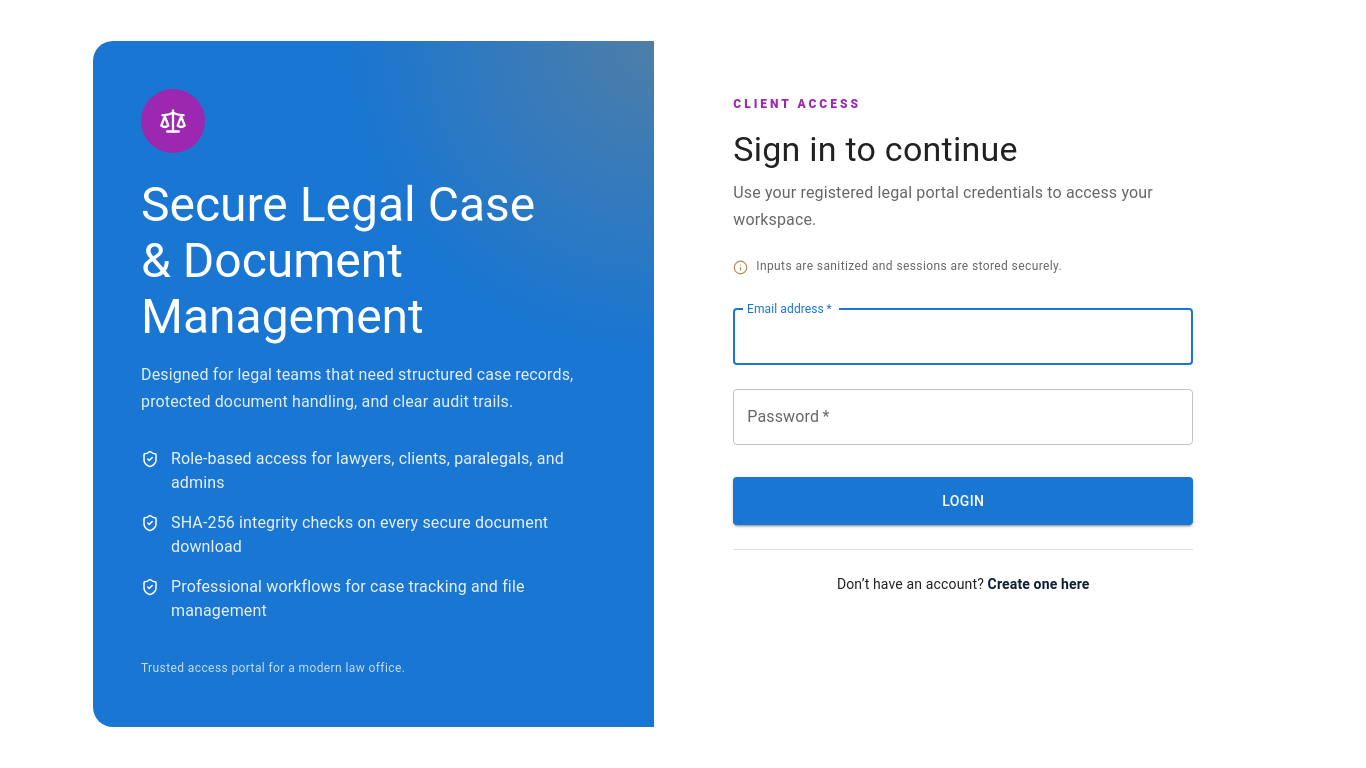
Test: Login component — client-side validation › shows password required error when password is empty
Step 1. Type "user@example.com" into the field labelled "Email address *" → (963, 337), box [733, 309, 1193, 365]
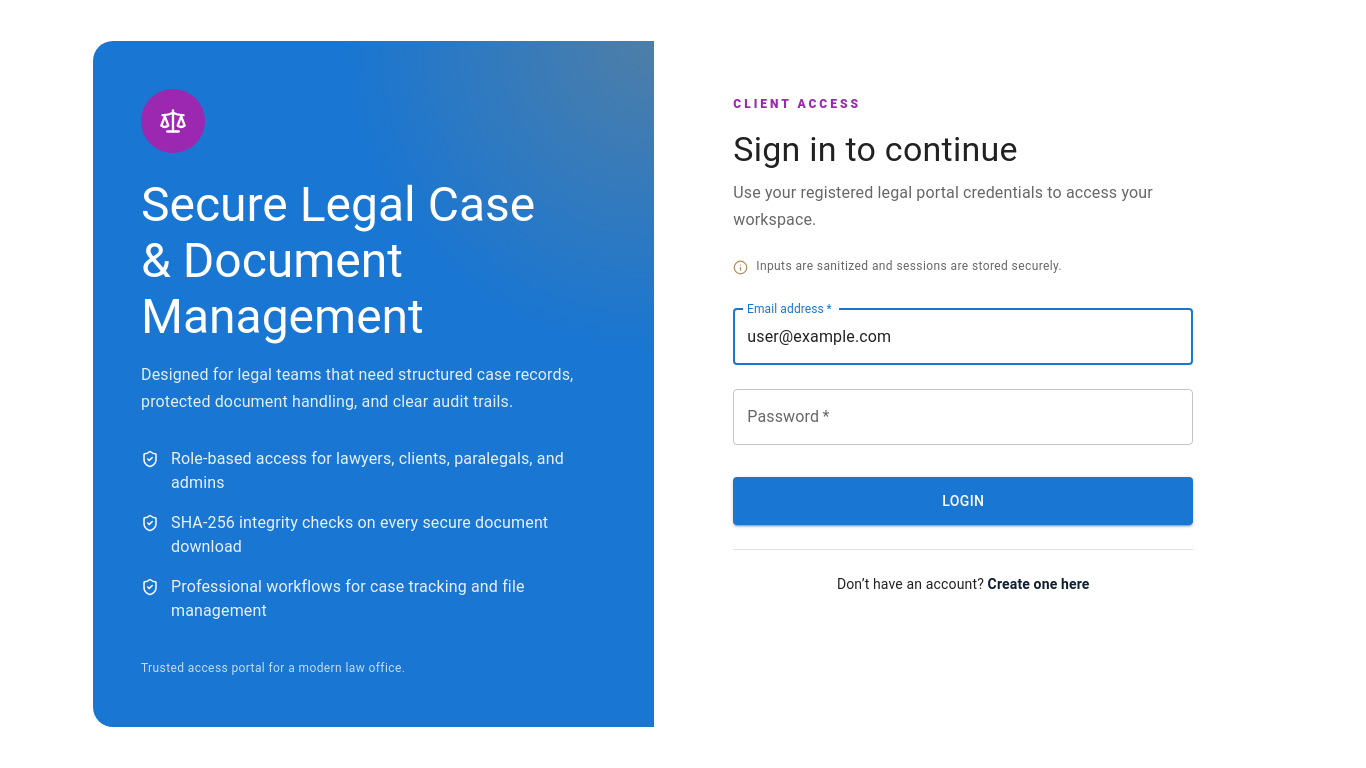
Step 2. Submit the form from the button "Login", box [733, 477, 1193, 526]
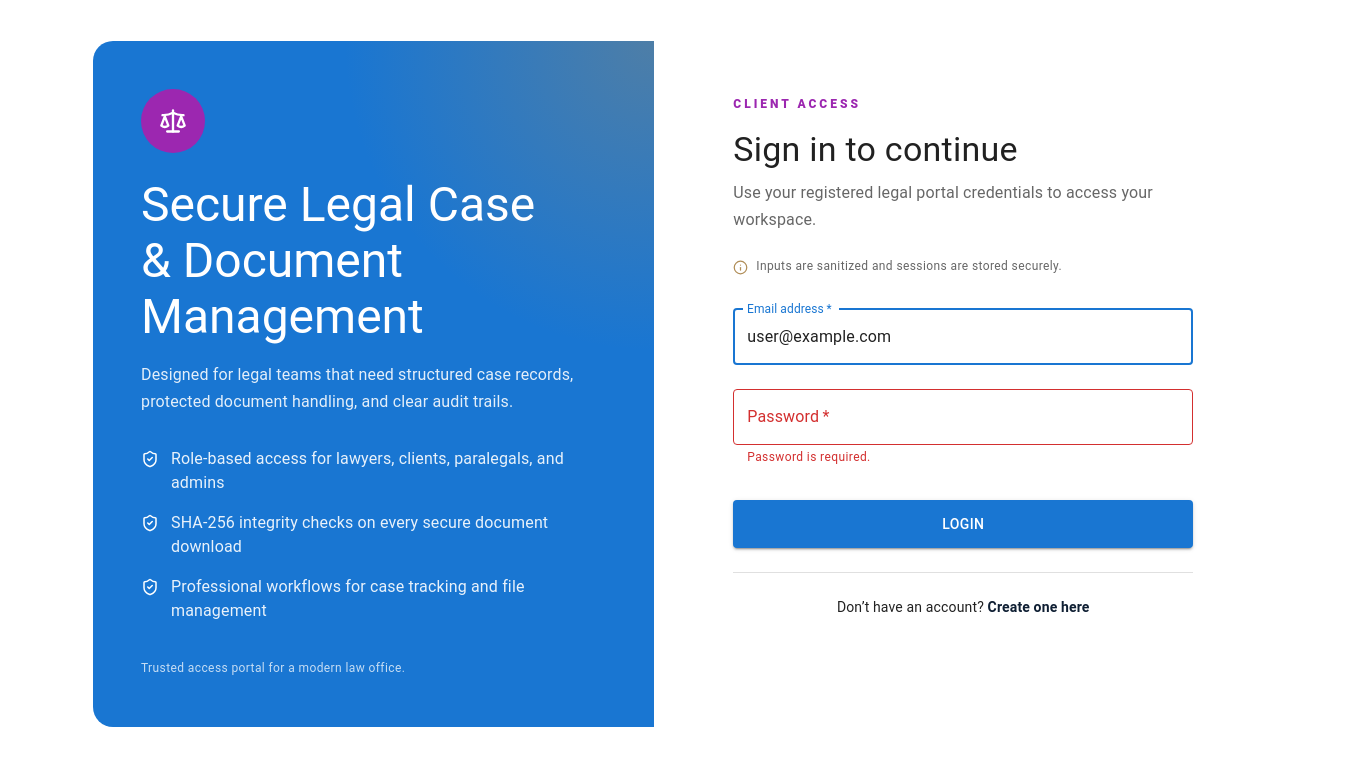
Expected: the text "Password is required." is shown, [747, 450, 871, 464]
